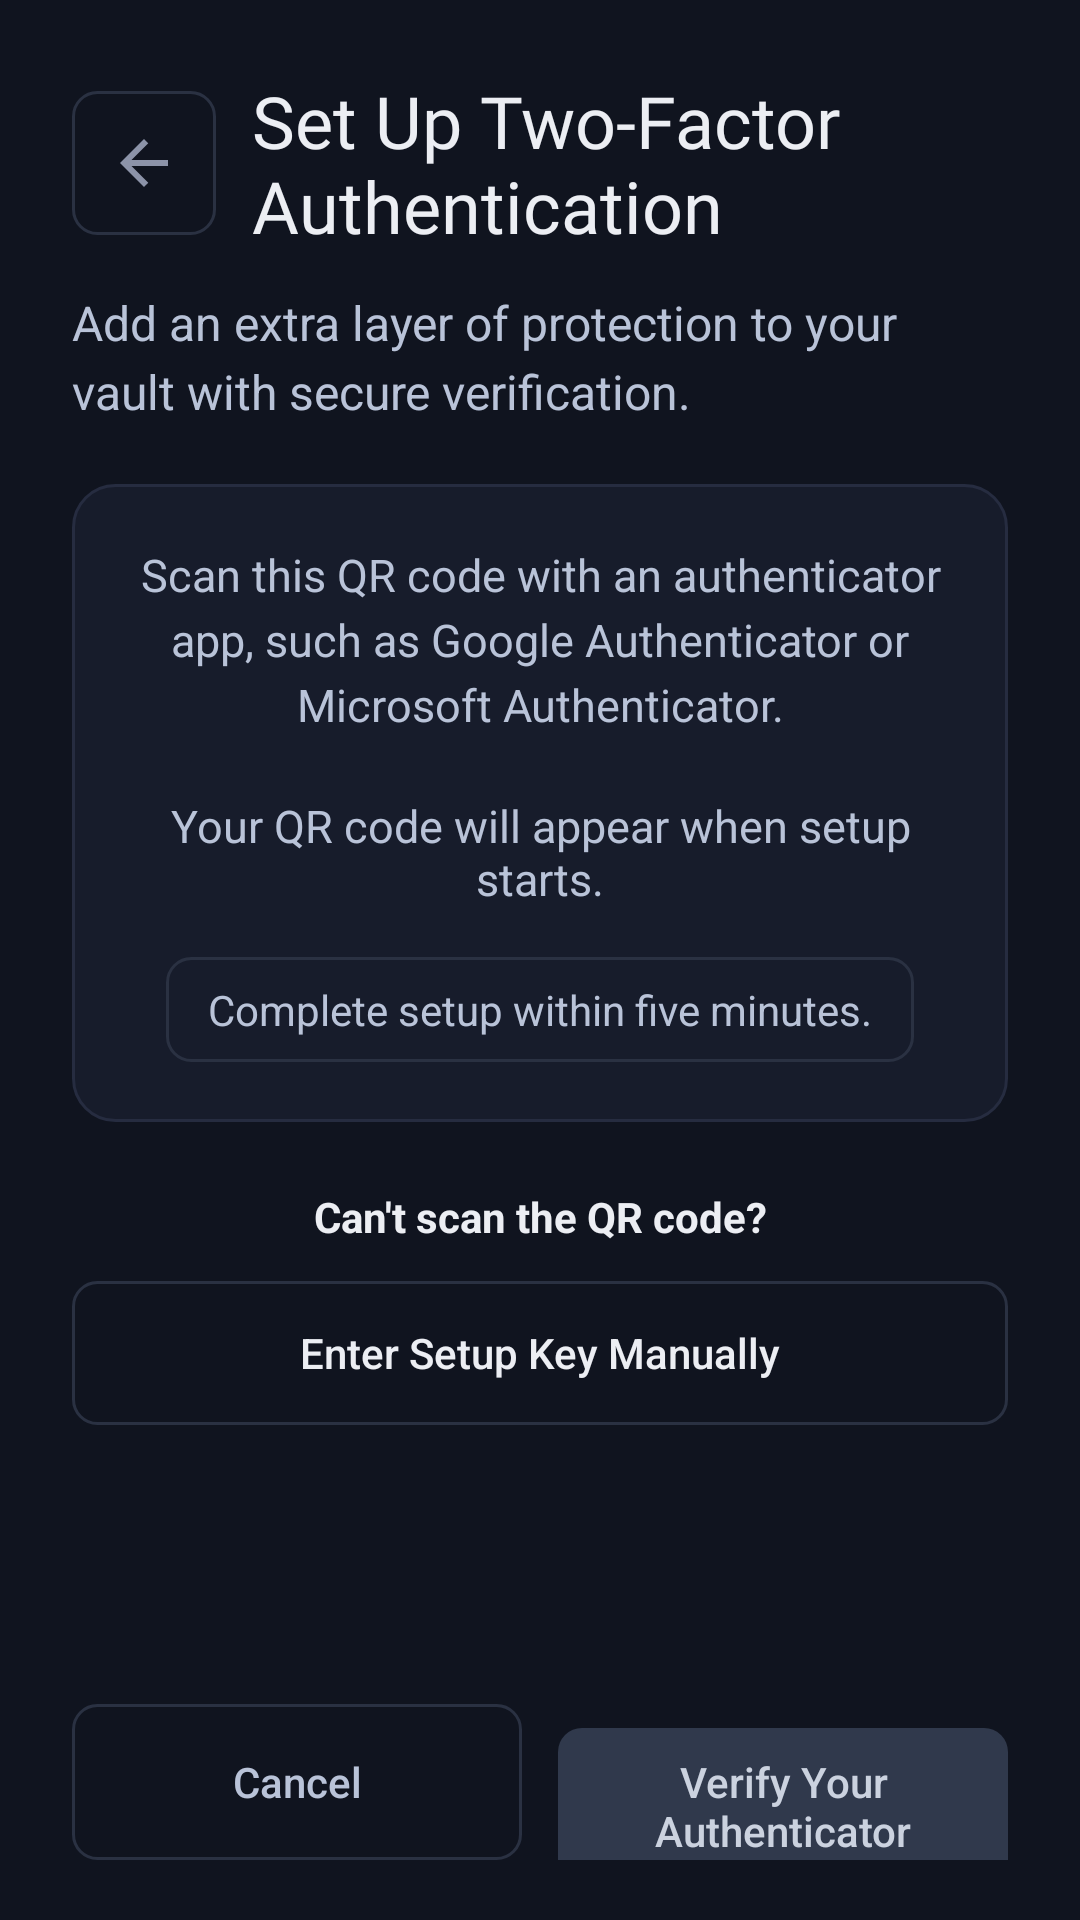

Locate icon controls on the screen. Image size 1080 × 1920, boxes as region(x1, y1, x2, y2).
Go back: region(72, 91, 216, 235)
